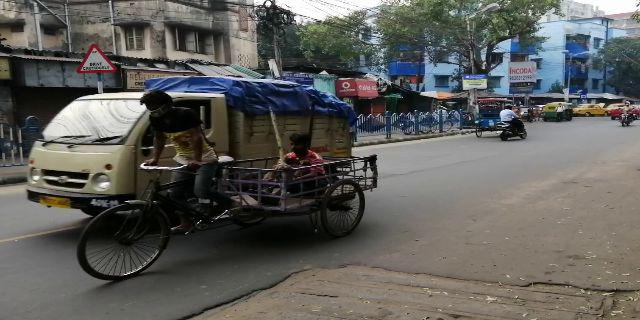Minitruck: (32, 74, 362, 210)
Motorbike: (495, 104, 527, 143)
Rickshaw: (78, 149, 388, 279)
